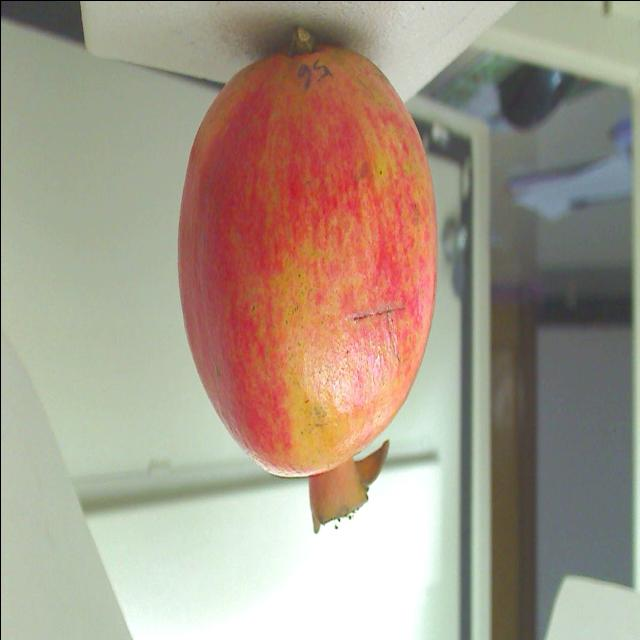pomegranate: (171, 0, 444, 554)
